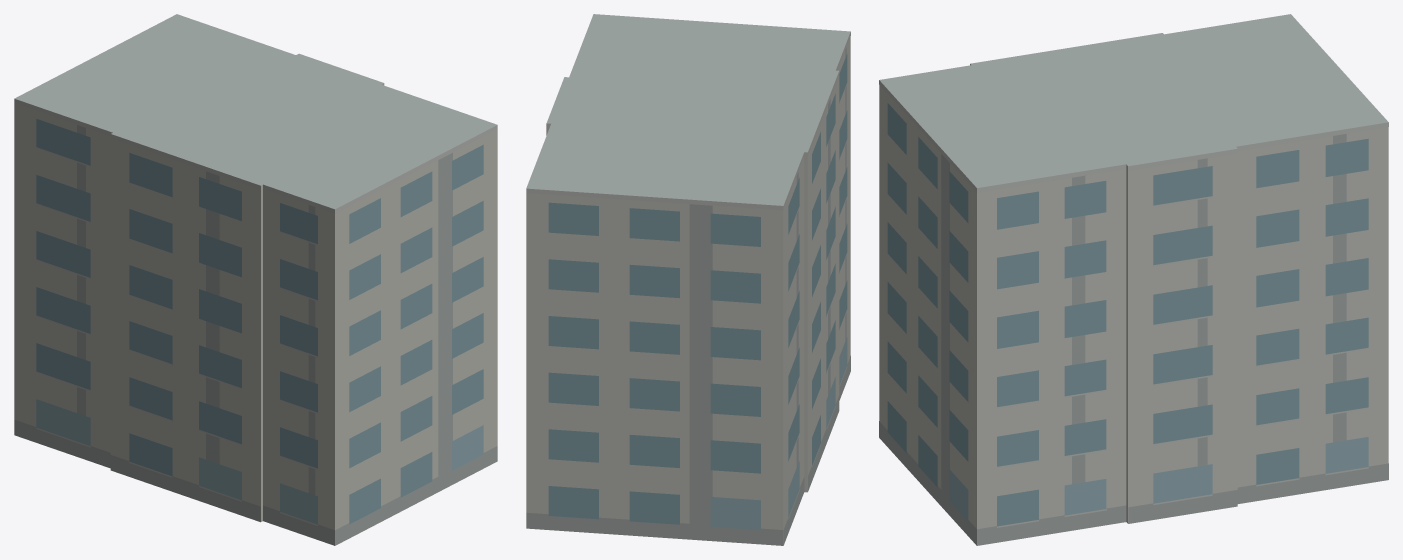
The model's file is survey-upis-32827594.glb.
3 views of the same model, side by side, from view 1: azimuth 30°, elevation 25°; view 2: azimuth 150°, elevation 25°; view 3: azimuth 270°, elevation 25° (orthographic). The views are drawn at different scales.
Parts seen in each view (by area): view 1: survey-upis-32827594.tmp; view 2: survey-upis-32827594.tmp; view 3: survey-upis-32827594.tmp.
Boxes of the visible parts, x1,y1,x2,y2 form: survey-upis-32827594.tmp: (14,14,497,545); survey-upis-32827594.tmp: (526,14,850,545); survey-upis-32827594.tmp: (879,14,1388,545).
Bounding box in the file's own units: 19.12 × 18.3 × 23.64.
